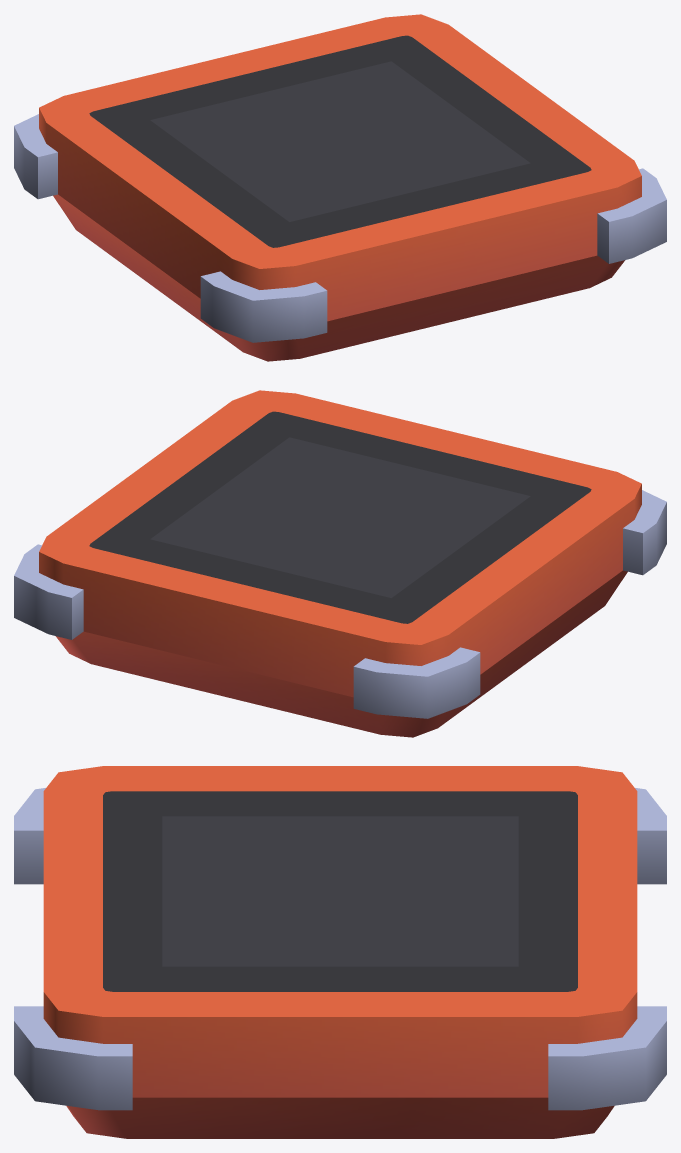
File: platformer_platform_falling.glb
3 views of the same model, one above another, from view 1: azimuth 30°, elevation 25°; view 2: azimuth 150°, elevation 25°; view 3: azimuth 270°, elevation 25° (orthographic). The views are drawn at different scales.
Visible parts, largest first — view 1: platform-falling; view 2: platform-falling; view 3: platform-falling.
Part boxes in pixels (box(x1,y1,x2,y2)): platform-falling: box(14, 14, 666, 361); platform-falling: box(14, 390, 666, 737); platform-falling: box(14, 766, 666, 1138).
Bounding box in the file's own units: 2.2 × 0.5 × 2.2.
Materials: 1 (1 with a texture image).
